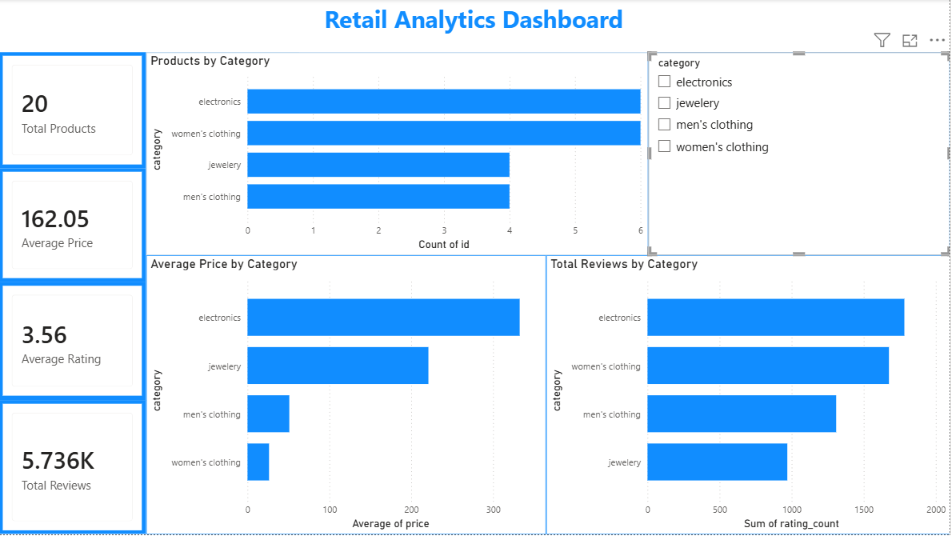

Layout of this report page (visuals, bound fields, positions):
{"tool":"powerbi","page":{"name":"Page 1","canvas":[1280,720],"ordinal":0},"visuals":[{"type":"cardVisual","fields":{"Data":["CountNonNull(products_cleaned.id)"]},"box":[0,71.4,197.9,156.2],"z":0},{"type":"cardVisual","fields":{"Data":["Avg(products_cleaned.price)"]},"box":[0,227.5,197.9,153.5],"z":1000},{"type":"cardVisual","fields":{"Data":["Avg(products_cleaned.rating_rate)"]},"box":[0,381,197.9,158.9],"z":2000},{"type":"cardVisual","fields":{"Data":["Sum(products_cleaned.rating_count)"]},"box":[0,539.8,197.9,180.4],"z":3000},{"type":"clusteredBarChart","title":"Products by Category","fields":{"Y":["CountNonNull(products_cleaned.id)"],"Category":["products_cleaned.category"]},"box":[197.9,71.4,675.8,273.3],"z":4000},{"type":"clusteredBarChart","title":"Average Price by Category","fields":{"Category":["products_cleaned.category"],"Y":["Avg(products_cleaned.price)"]},"box":[197.9,344.6,538.5,375.6],"z":5000},{"type":"clusteredBarChart","title":"Total Reviews by Category","fields":{"Category":["products_cleaned.category"],"Y":["Sum(products_cleaned.rating_count)"]},"box":[736.4,344.6,543.9,375.6],"z":6000},{"type":"textbox","box":[403.9,0,469.8,71.4],"z":7000},{"type":"slicer","fields":{"Values":["products_cleaned.category"]},"box":[873.7,71.4,406.6,273.3],"z":8000}]}

Visuals, with their boxes in screenshot pixels (x1, y1, x2, y2), scaled from the page's 1280x720 canvas onto the 951x536 screenshot:
cardVisual - CountNonNull(products_cleaned.id): 0,53,147,169
cardVisual - Avg(products_cleaned.price): 0,169,147,284
cardVisual - Avg(products_cleaned.rating_rate): 0,284,147,402
cardVisual - Sum(products_cleaned.rating_count): 0,402,147,535
"Products by Category" clusteredBarChart: 147,53,649,257
"Average Price by Category" clusteredBarChart: 147,257,547,535
"Total Reviews by Category" clusteredBarChart: 547,257,950,535
textbox: 300,0,649,53
slicer - products_cleaned.category: 649,53,950,257
